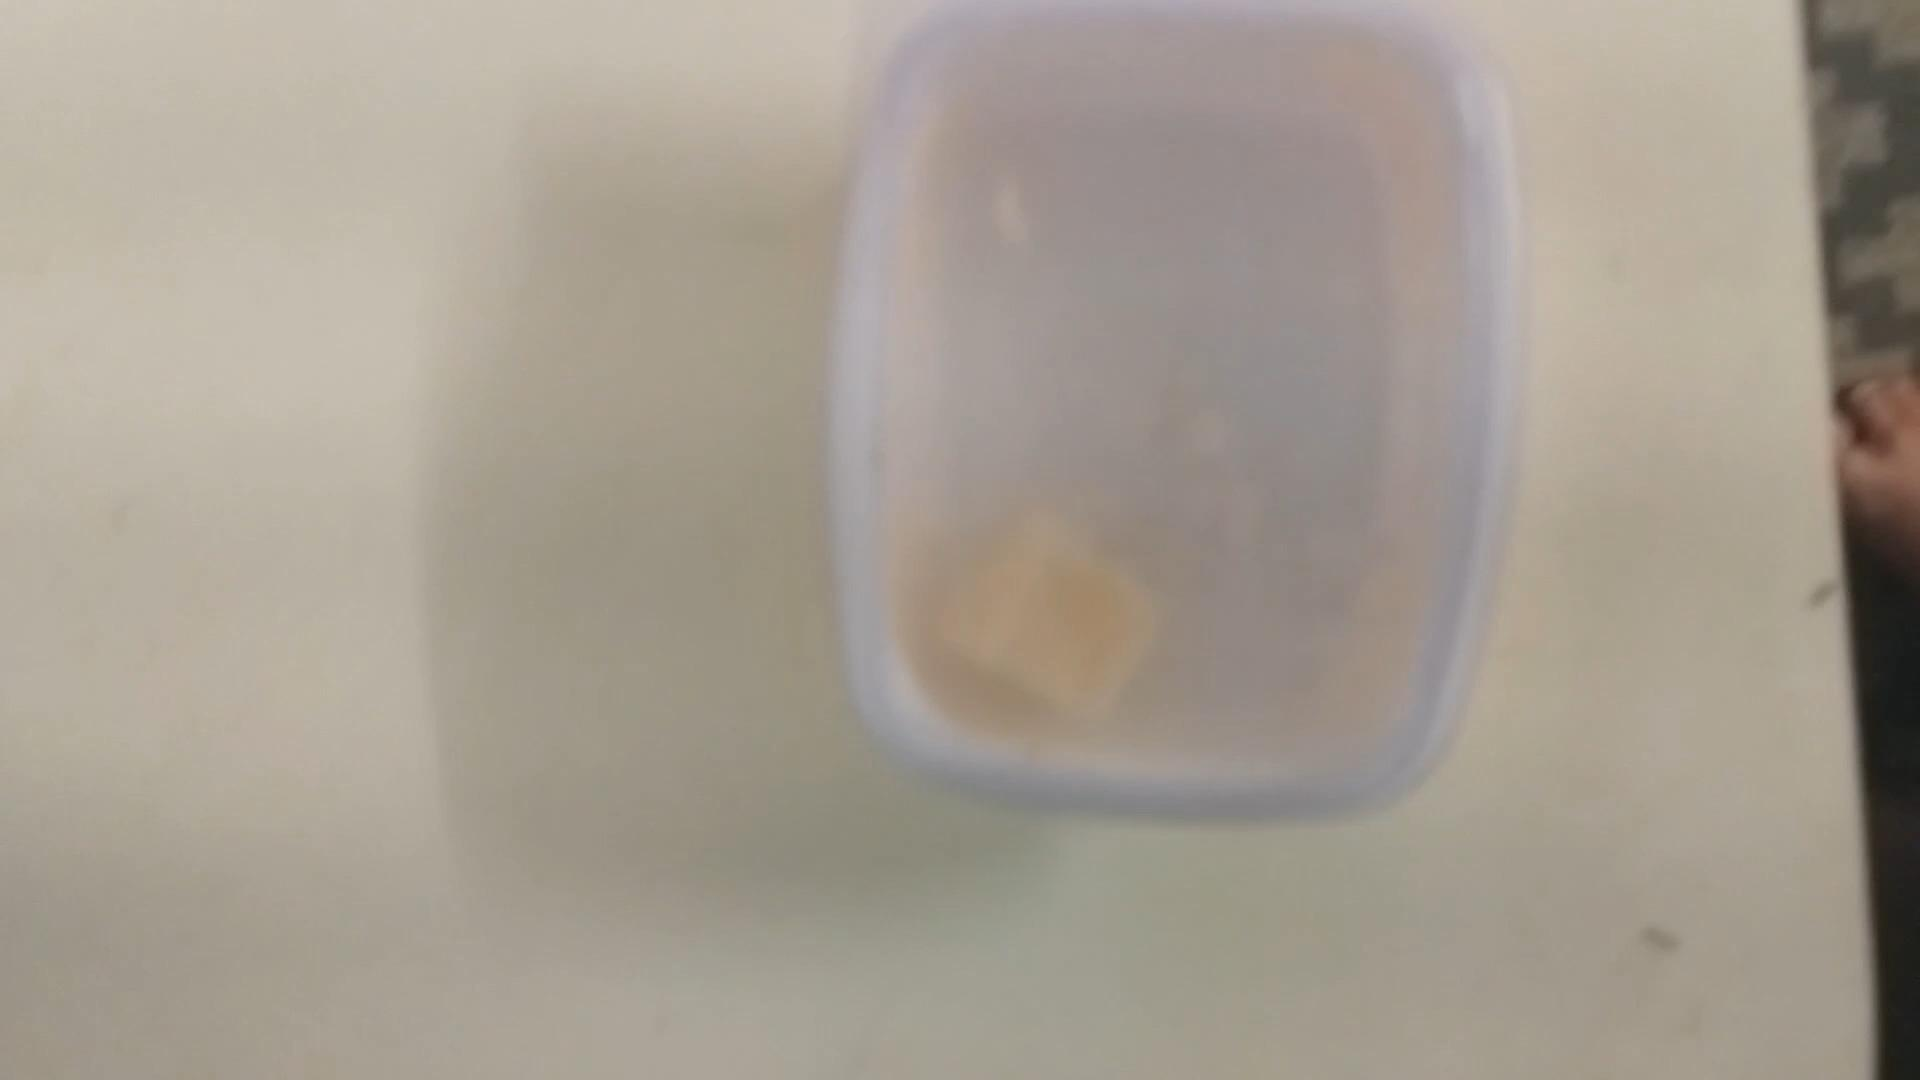butter: (836, 0, 1509, 822)
